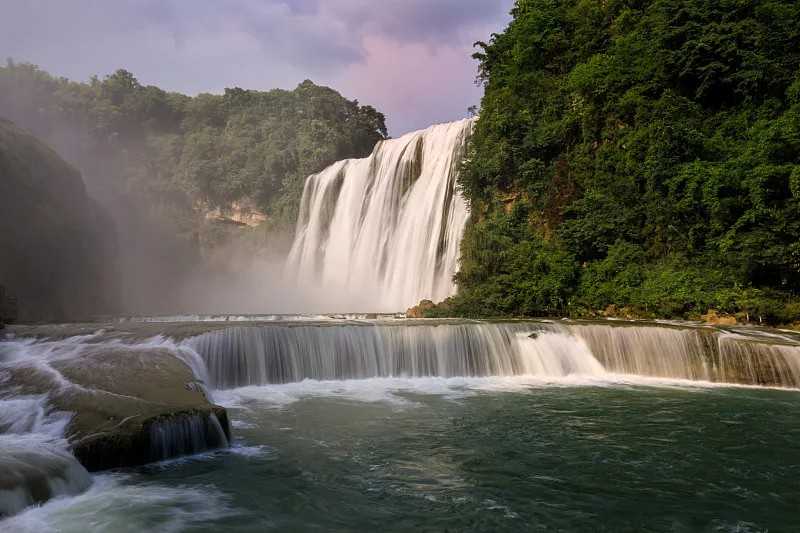Huangguoshu: (286, 115, 471, 312)
